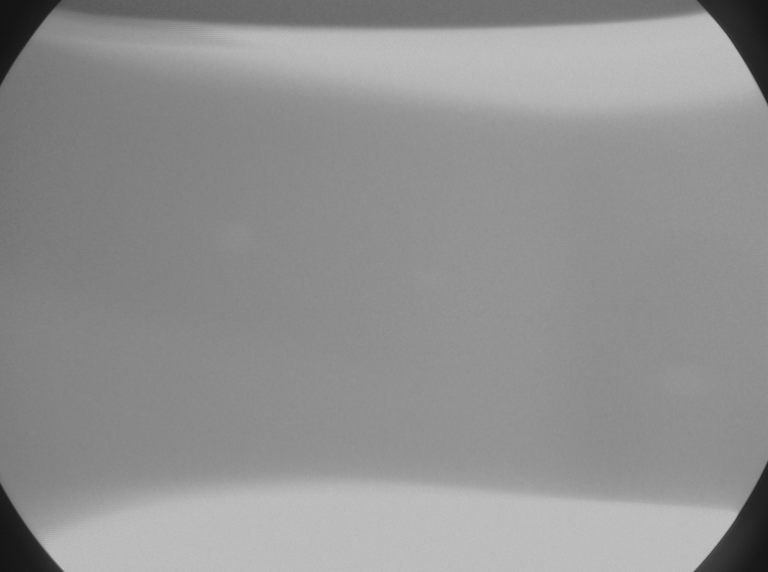defect: (662, 361, 705, 398)
